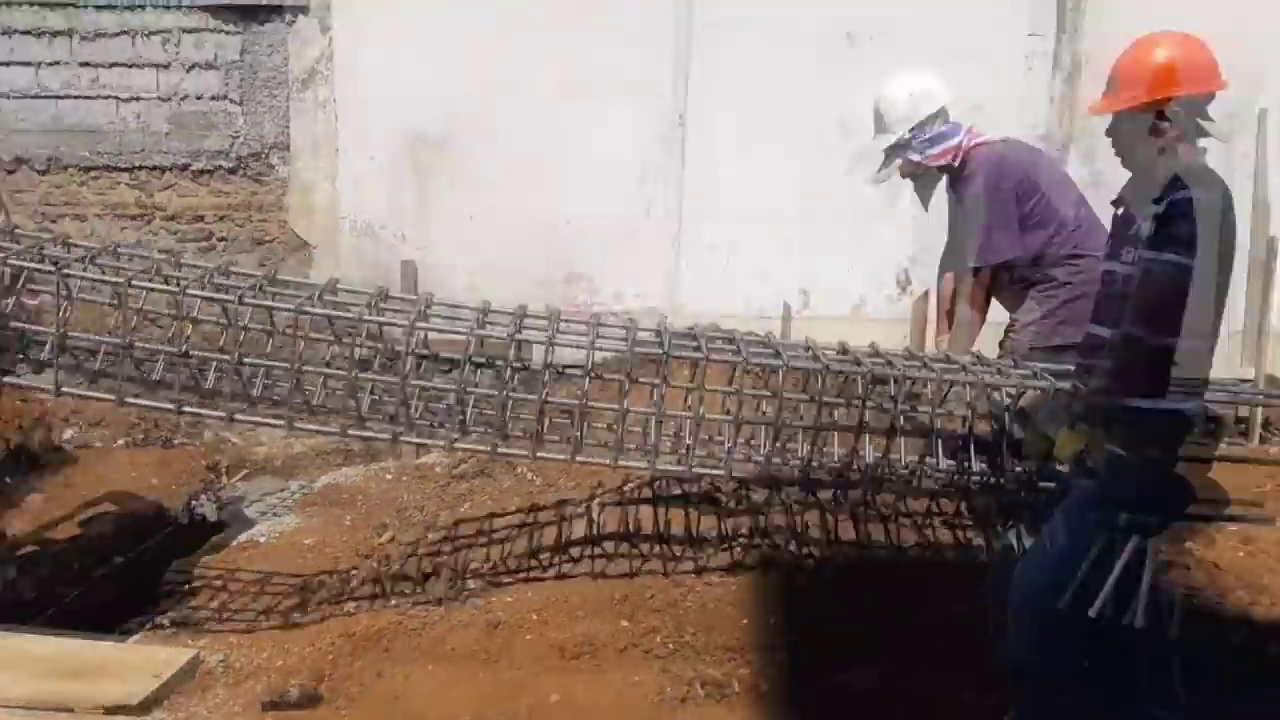helmet: (1091, 30, 1234, 117), (872, 77, 950, 147)
helmet-on: (1096, 31, 1240, 182), (869, 72, 986, 197)
person: (871, 74, 1117, 557), (1055, 47, 1236, 635)
